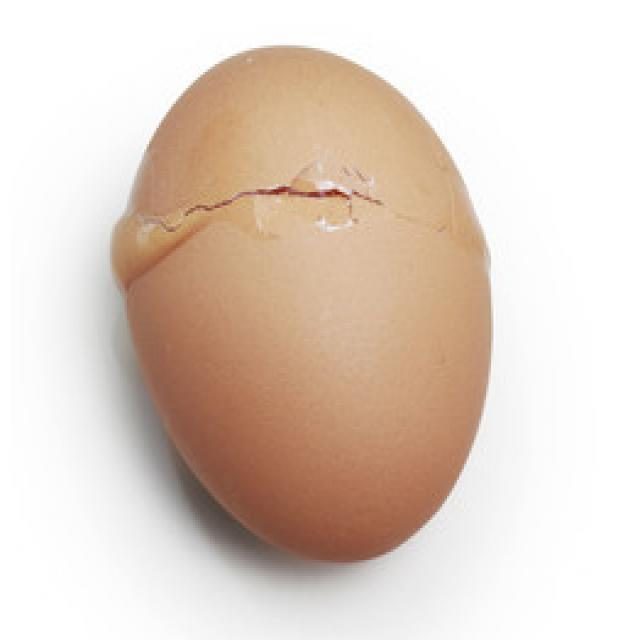biodegradable: (105, 35, 516, 572)
